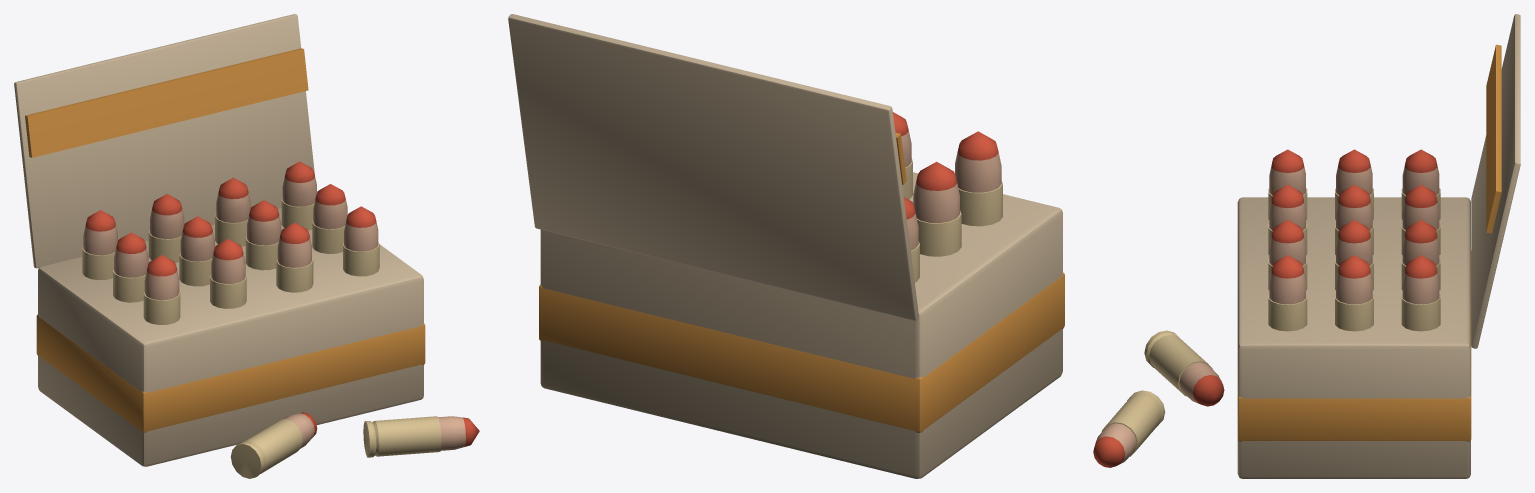
The model's file is pistol-ammo-incendiary.glb.
The picture shows the model from 3 angles, left to right: view 1: azimuth 30°, elevation 25°; view 2: azimuth 150°, elevation 25°; view 3: azimuth 270°, elevation 25°; orthographic projection. The views are drawn at different scales.
Visible parts, largest first — view 1: Body_lod0; view 2: Body_lod0; view 3: Body_lod0.
Part boxes in pixels (<box>): Body_lod0: <box>14,14,479,478</box>; Body_lod0: <box>508,14,1064,478</box>; Body_lod0: <box>1093,14,1520,478</box>.
Size of what is drawn, in the model's own units: 0.0852 by 0.0842 by 0.1026.
